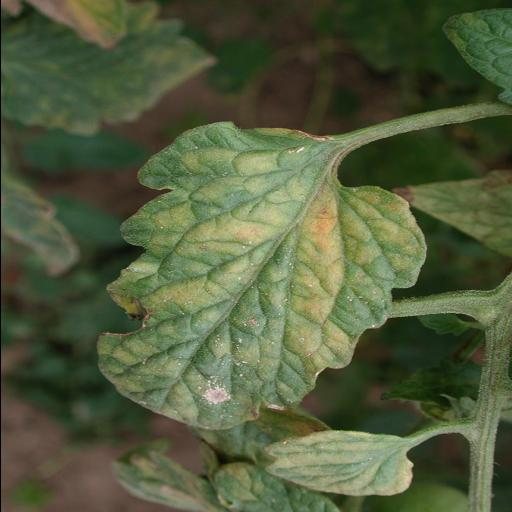disease_tomato: (96, 120, 426, 430), (262, 429, 414, 498)
